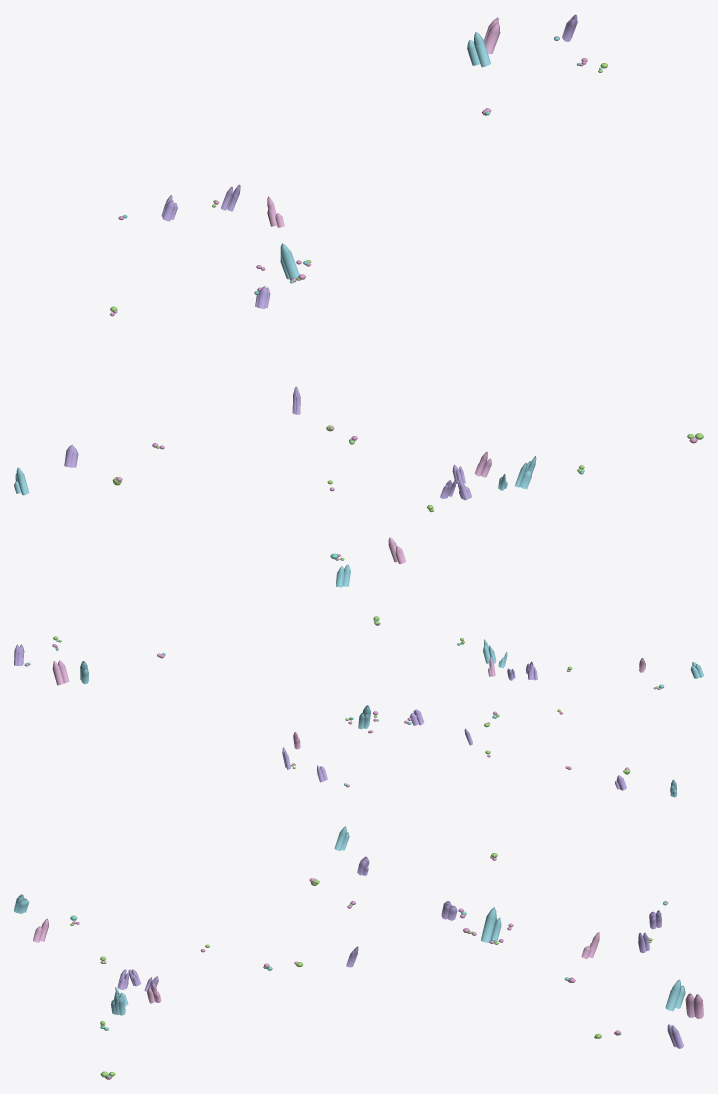
The model's file is prp_cave_glow.glb.
The picture shows the model from 3 angles, top to bottom: view 1: azimuth 30°, elevation 25°; view 2: azimuth 150°, elevation 25°; view 3: azimuth 270°, elevation 25°; orthographic projection. The views are drawn at different scales.
Visible parts, largest first — view 1: INST_prp_cave_glow_glow; view 2: INST_prp_cave_glow_glow; view 3: INST_prp_cave_glow_glow.
Boxes of the visible parts, box(x1,y1,x2,y2) form: INST_prp_cave_glow_glow: box(14, 14, 703, 587); INST_prp_cave_glow_glow: box(14, 616, 703, 797); INST_prp_cave_glow_glow: box(14, 826, 703, 1079).
Size of the model in its own units: 40.63 by 8.84 by 35.93.
